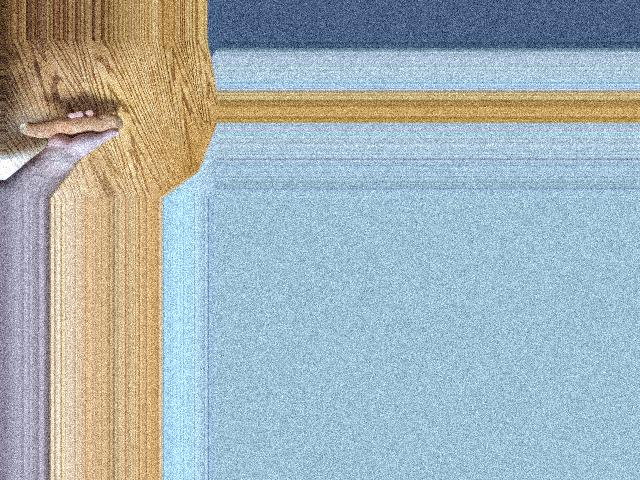sweet_potato: (16, 112, 123, 146)
